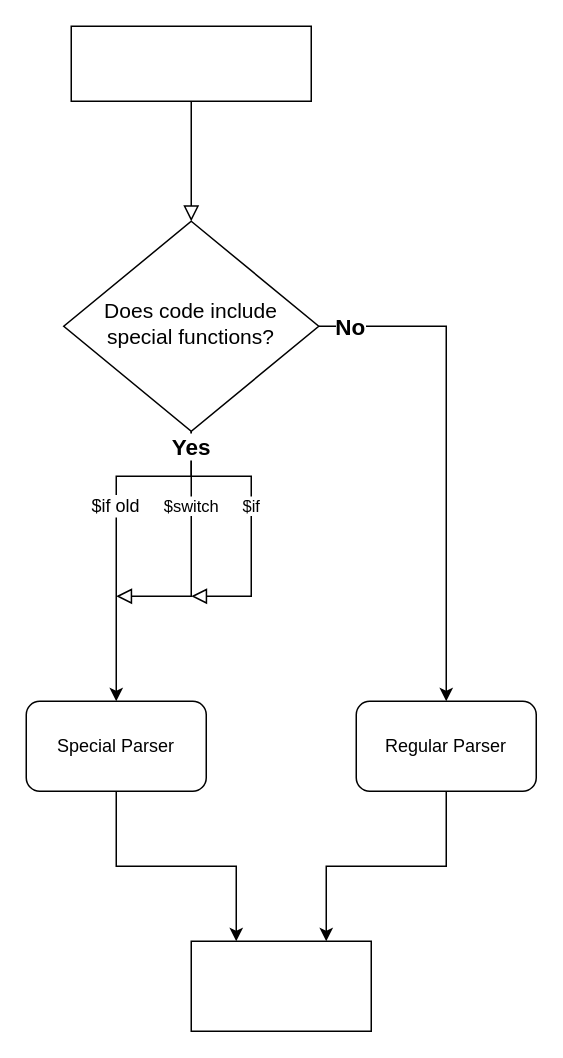
The diagram is 563 pixels wide and 1058 high, and some of its shapes have lost their labels. Here are the shapes that lost their labels. From the top down, the box of each, then its label:
(70, 25, 311, 101): Start Parsing Functions
(190, 940, 371, 1031): Finish Execution
